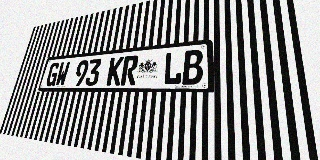3: (84, 58, 102, 86)
9: (73, 60, 90, 86)
B: (182, 49, 203, 85)
G: (45, 62, 60, 86)
K: (106, 56, 124, 86)
L: (163, 51, 183, 85)
R: (120, 55, 139, 85)
W: (54, 61, 70, 86)
